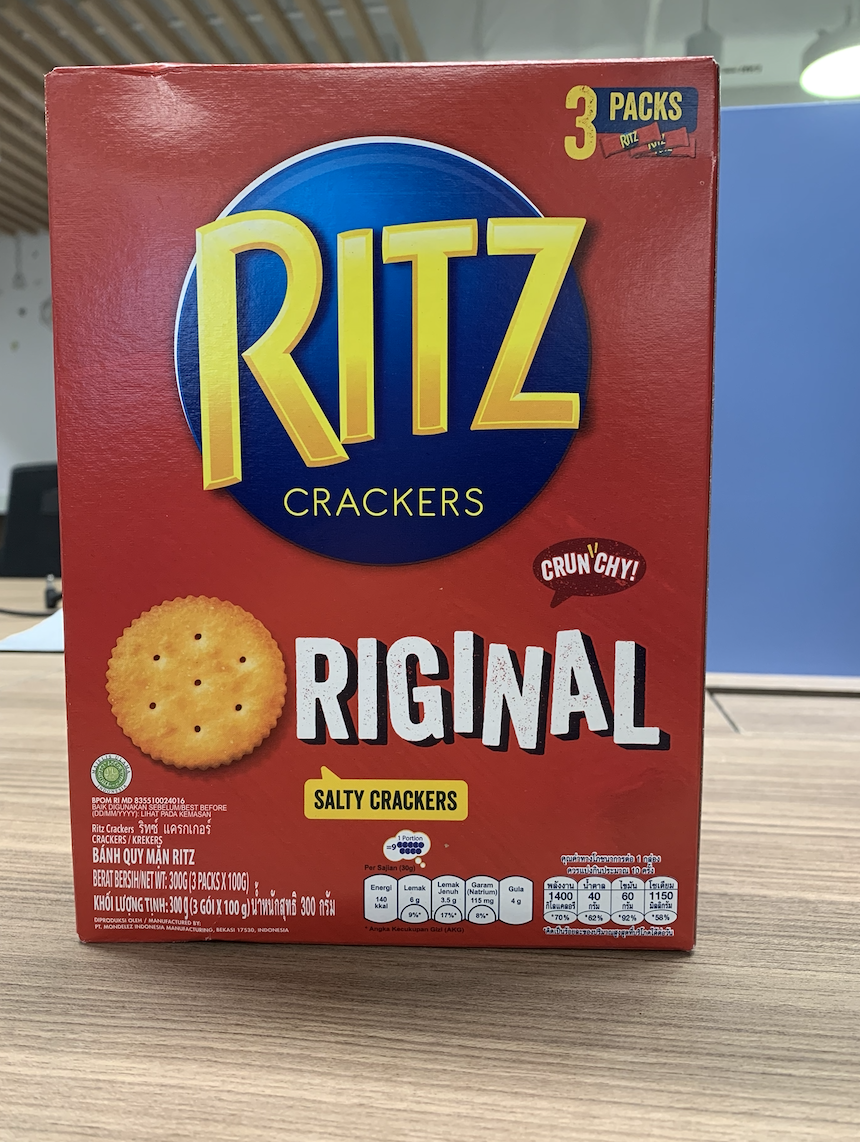crackers_450g: (76, 76, 691, 946)
